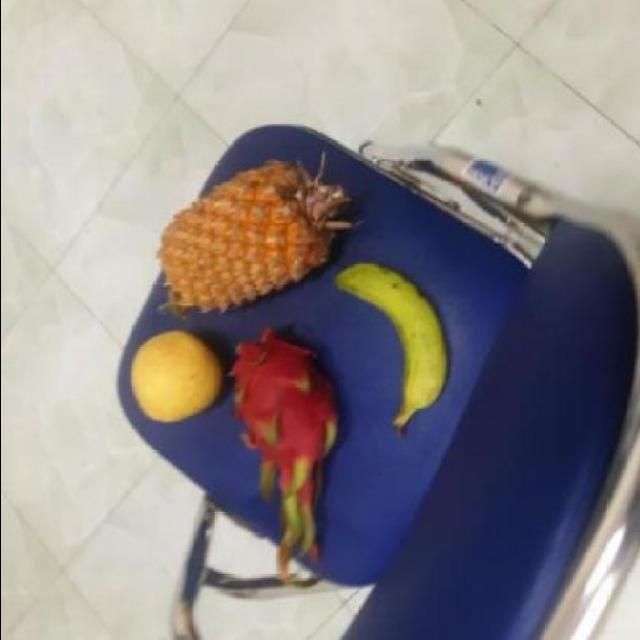banana: (331, 268, 446, 431)
dragon fruit: (226, 336, 342, 482)
pear: (130, 330, 224, 430)
pineapple: (155, 162, 361, 319)
